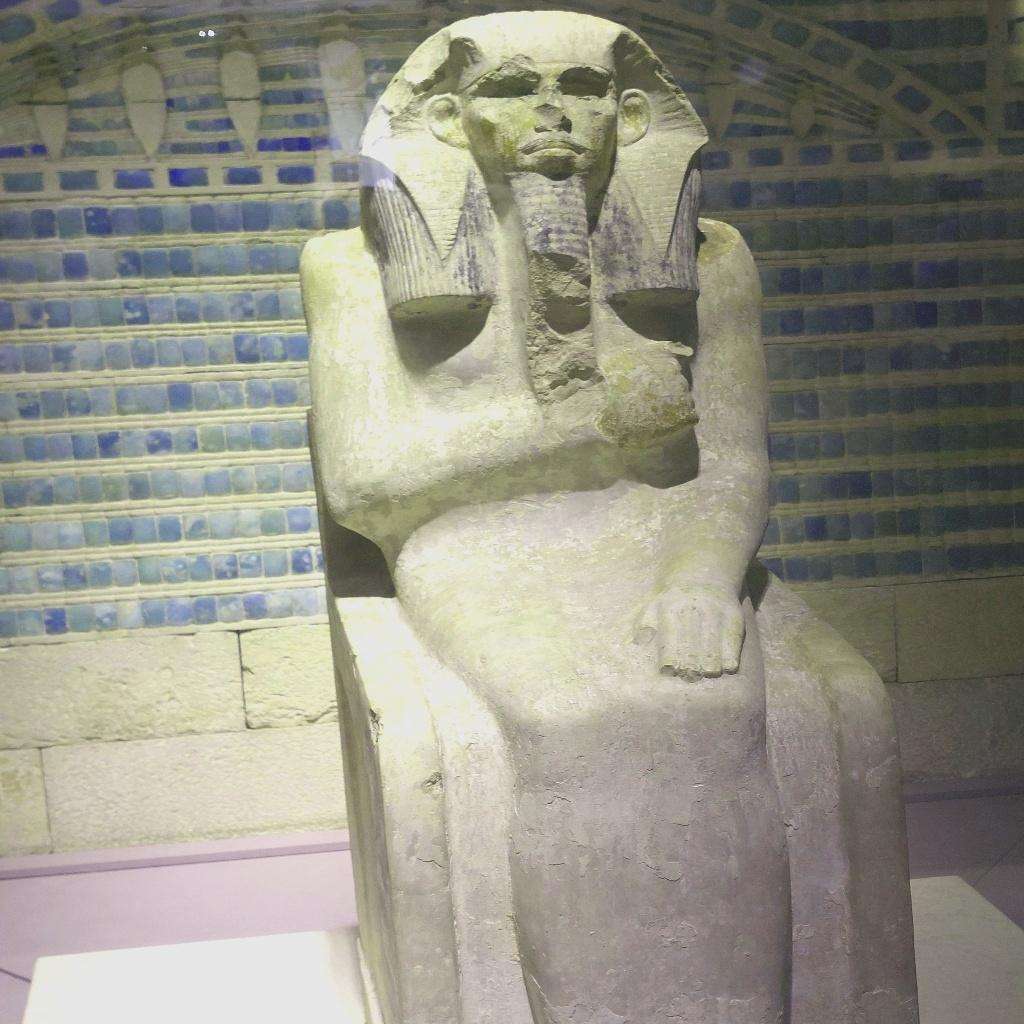Seated Statue of Djoser: (292, 8, 924, 1020)
